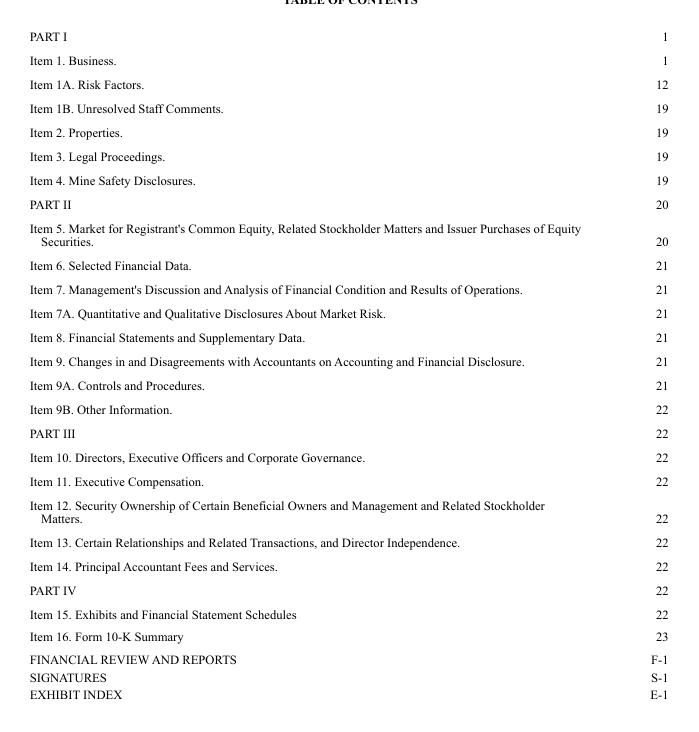table: (28, 29, 667, 701)
table column: (28, 29, 614, 701), (614, 29, 667, 701)
table row: (28, 492, 667, 529), (28, 216, 667, 252), (28, 48, 667, 72), (28, 72, 667, 96), (28, 96, 667, 120), (28, 120, 667, 144), (28, 144, 667, 168), (28, 168, 667, 192), (28, 192, 667, 216), (28, 252, 667, 276), (28, 276, 667, 300), (28, 300, 667, 324), (28, 324, 667, 348), (28, 348, 667, 372), (28, 372, 667, 396), (28, 396, 667, 420), (28, 420, 667, 444), (28, 444, 667, 468), (28, 468, 667, 492), (28, 529, 667, 553), (28, 553, 667, 577), (28, 577, 667, 601), (28, 601, 667, 624), (28, 624, 667, 647), (28, 647, 667, 667), (28, 29, 667, 48), (28, 667, 667, 685), (28, 685, 667, 701)
